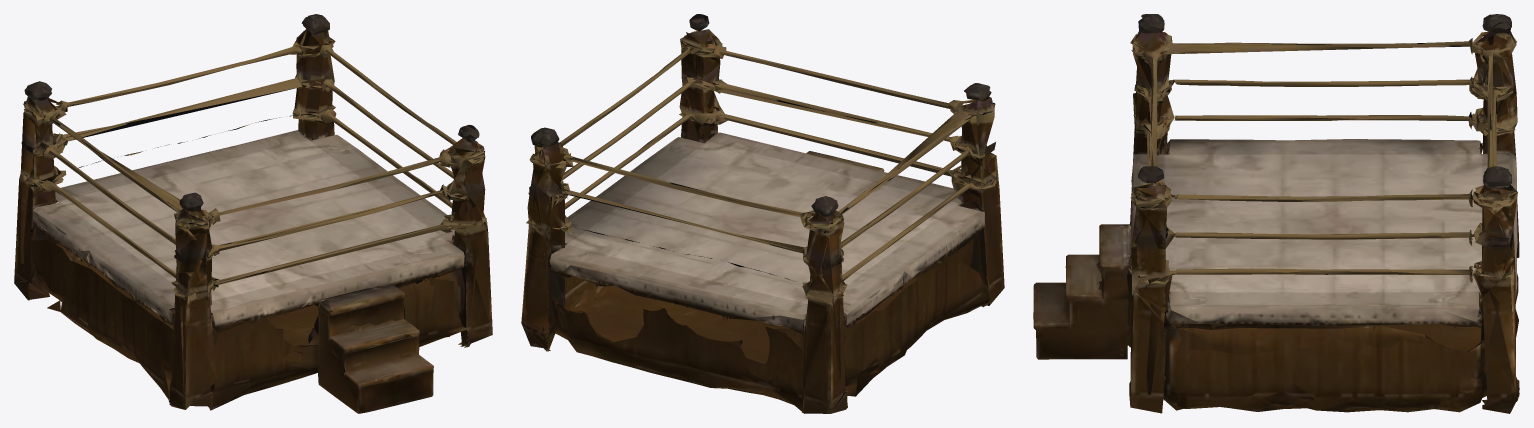
Rendered from set.glb.
The picture shows the model from 3 angles, left to right: view 1: azimuth 30°, elevation 25°; view 2: azimuth 150°, elevation 25°; view 3: azimuth 270°, elevation 25°; orthographic projection. The views are drawn at different scales.
Parts seen in each view (by area): view 1: 1890s Wrestling Ring (quads); view 2: 1890s Wrestling Ring (quads); view 3: 1890s Wrestling Ring (quads).
Boxes of the visible parts, x1,y1,x2,y2 form: 1890s Wrestling Ring (quads): (14,14,492,413); 1890s Wrestling Ring (quads): (521,14,1004,413); 1890s Wrestling Ring (quads): (1033,14,1519,413).
Bounding box in the file's own units: 4.38 × 2.85 × 5.19.
Materials: 1 (1 with a texture image).
